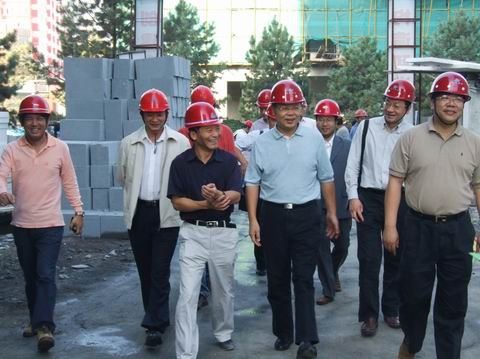red: (430, 72, 467, 125), (267, 78, 305, 129), (182, 102, 221, 150), (381, 77, 416, 120), (18, 95, 50, 139), (138, 89, 169, 130), (314, 96, 340, 137), (258, 88, 270, 119), (353, 108, 369, 122), (241, 119, 253, 132)
